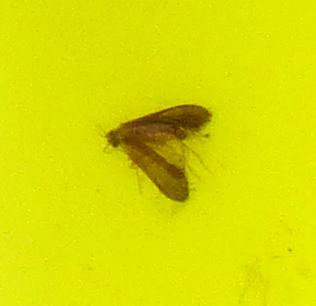Trichoptera: (100, 100, 216, 206)
